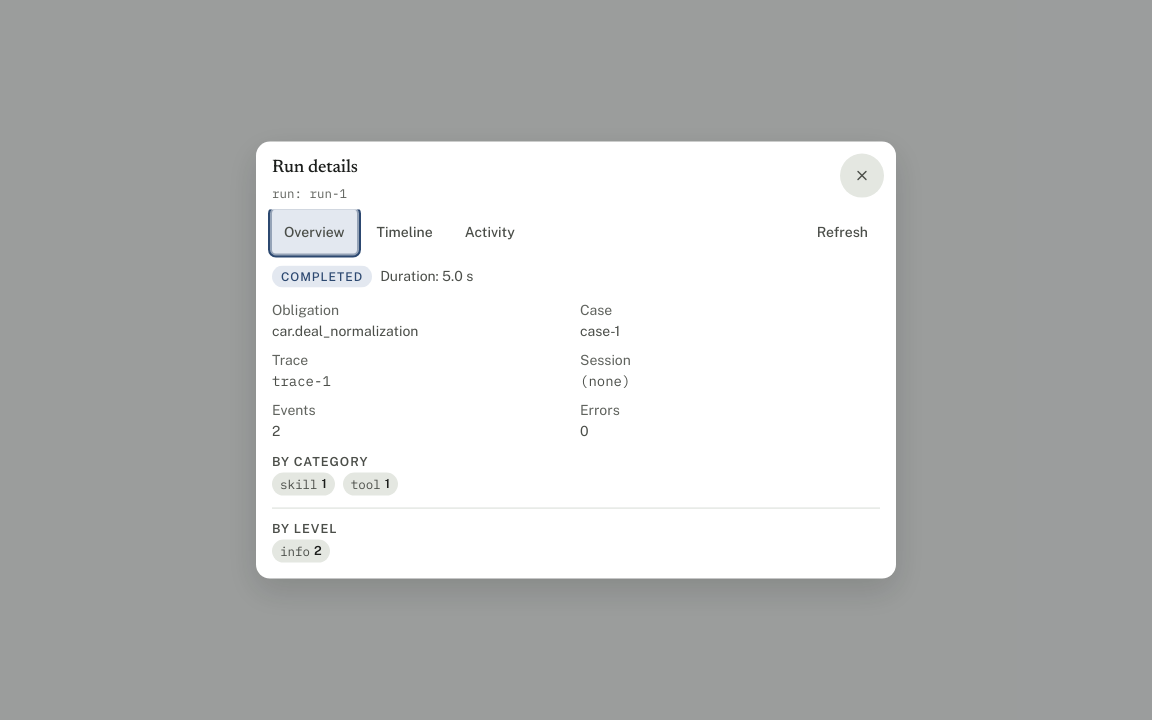
Test: RuntimeInspector › re-fetches with the real server-side category filter when the Timeline filter changes
The image size is (1152, 720).
Expected: the element with test id "runtime-inspector-overview" is shown, [272, 266, 631, 562]
Click the tab with test id "runtime-inspector-tab-timeline": (405,232) [364, 210, 445, 254]
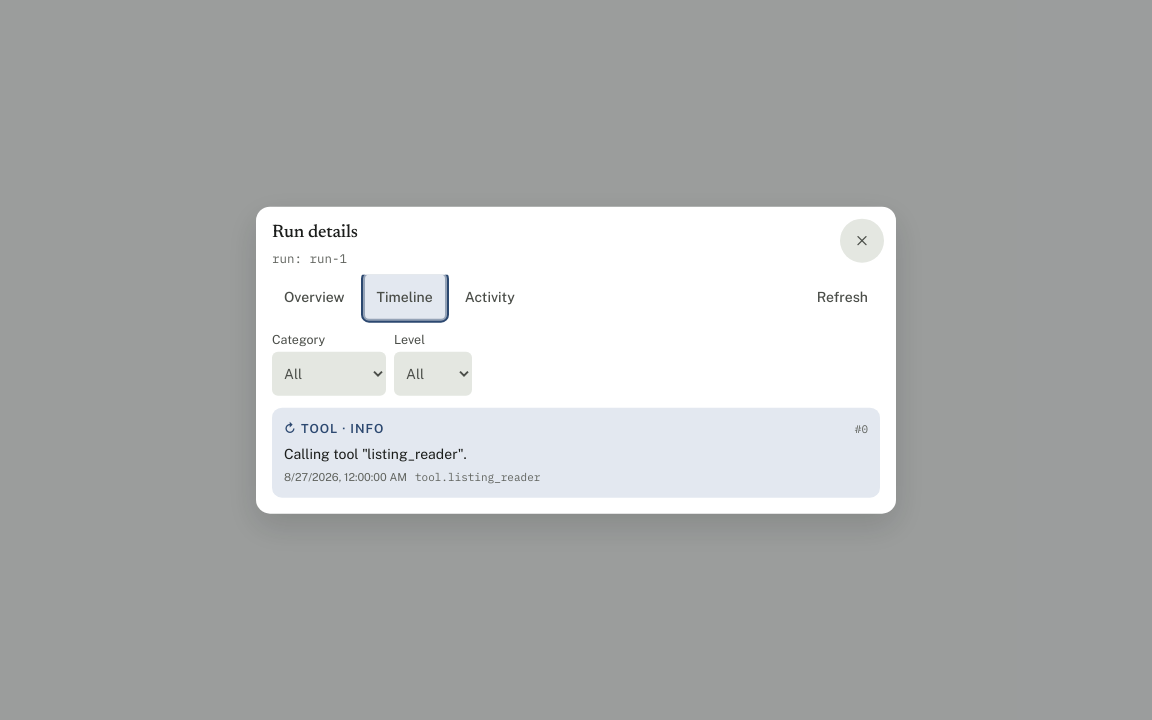
Select "skill" in the dropdown with test id "runtime-inspector-filter-category": (329,374) [272, 352, 386, 396]
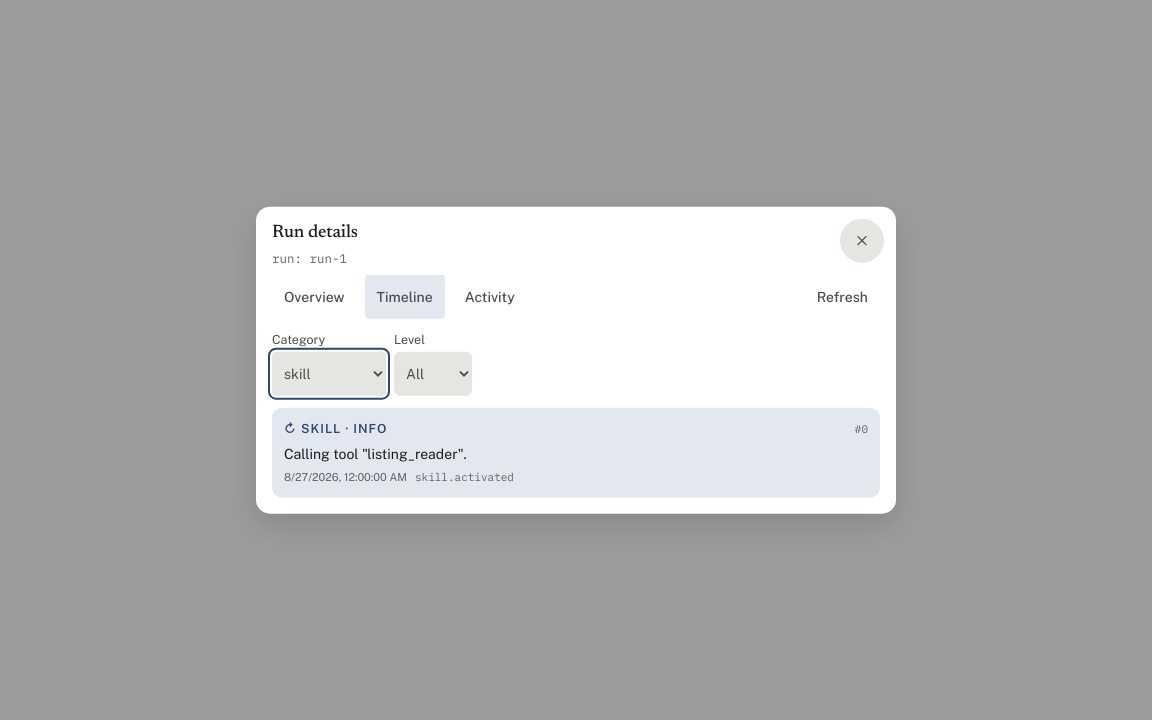
Expected: the list item with test id "runtime-inspector-timeline-item-debug-2" is shown, [272, 408, 880, 497]
